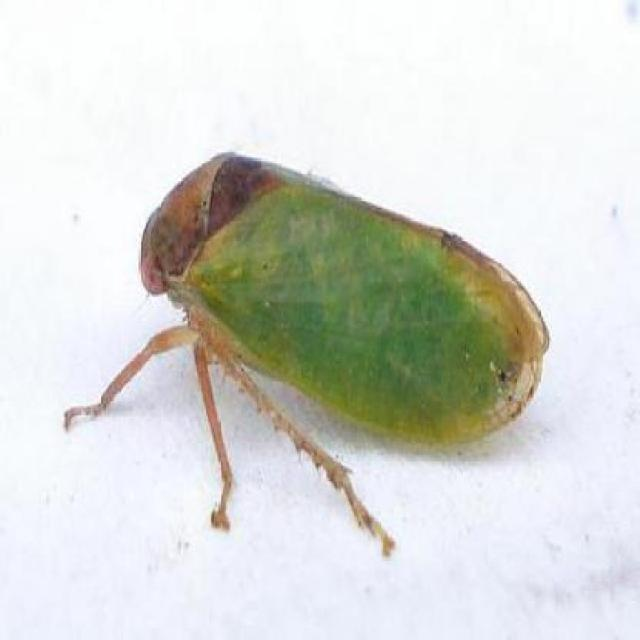green-leafhopper: (123, 148, 551, 478)
